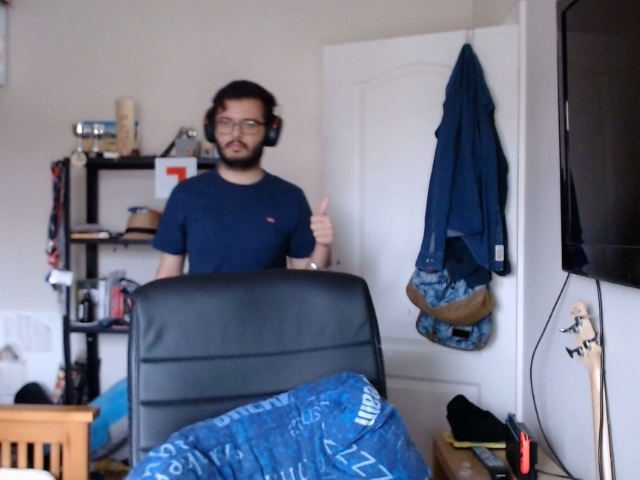Thumbs up: (303, 190, 348, 261)
